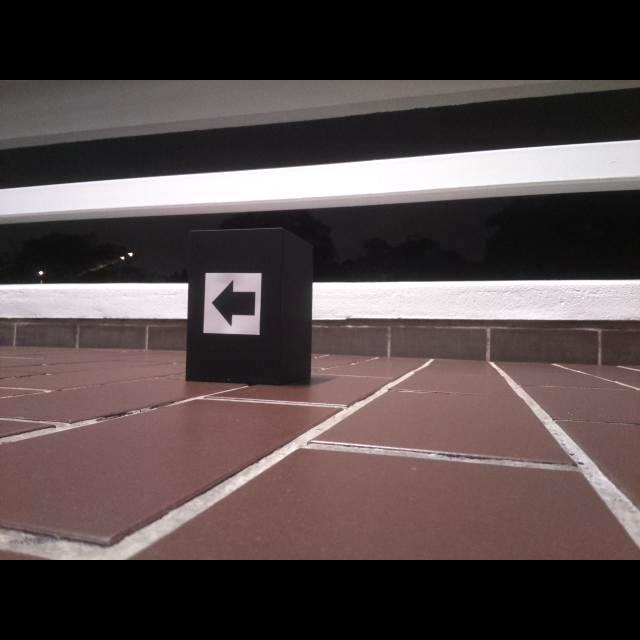LEFT: (210, 279, 256, 328)
